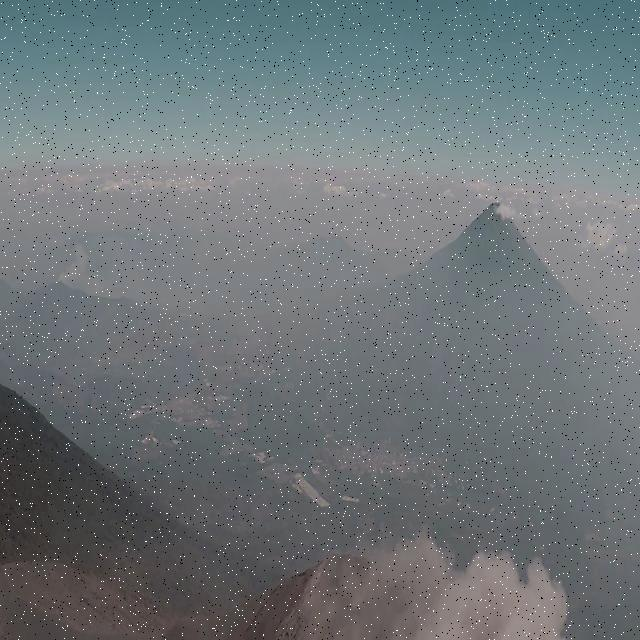Plume: (306, 525, 578, 640)
Summit: (170, 532, 554, 640)
